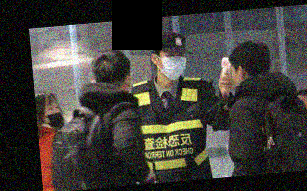with_mask: (160, 51, 189, 81), (44, 102, 64, 128)
